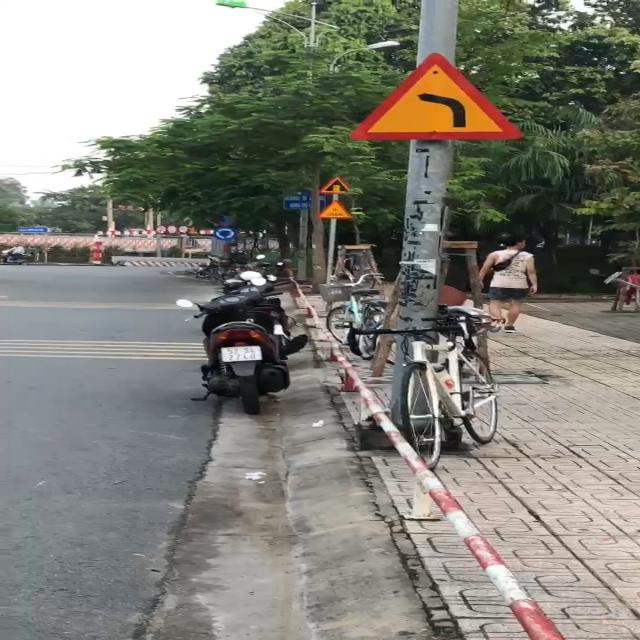Bien bao cho ngoat nguy hiem: (348, 42, 520, 145)
Bien bao di cham: (311, 197, 354, 220)
Bien bao noi giao nhau chay theo vong xuyen: (213, 225, 239, 242)
